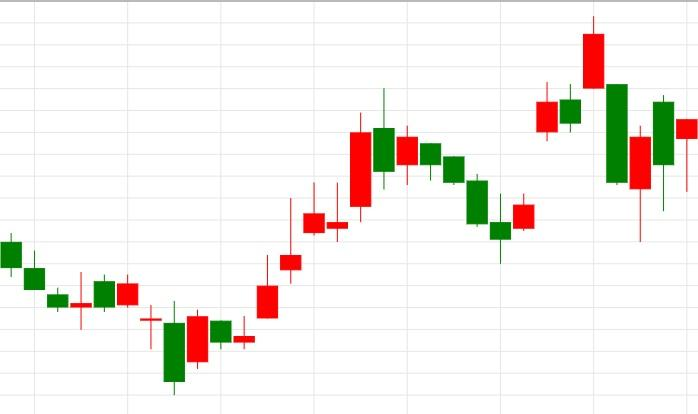morning_star_rise: (420, 144, 534, 264)
